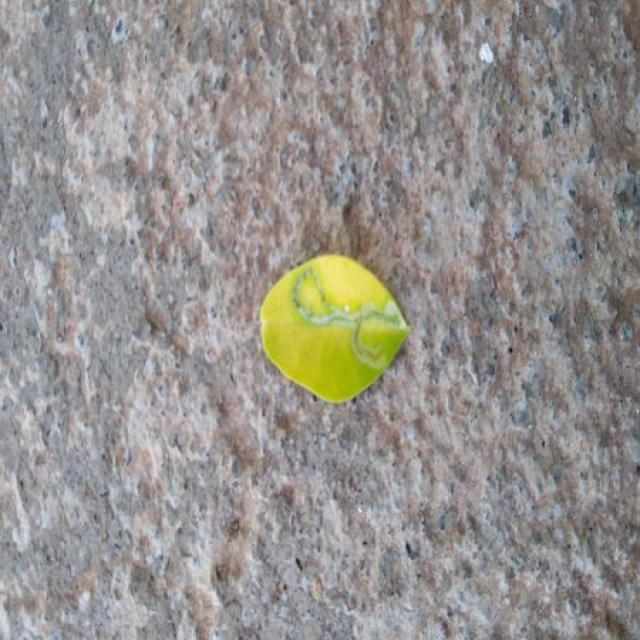drumstick: (260, 255, 410, 402)
